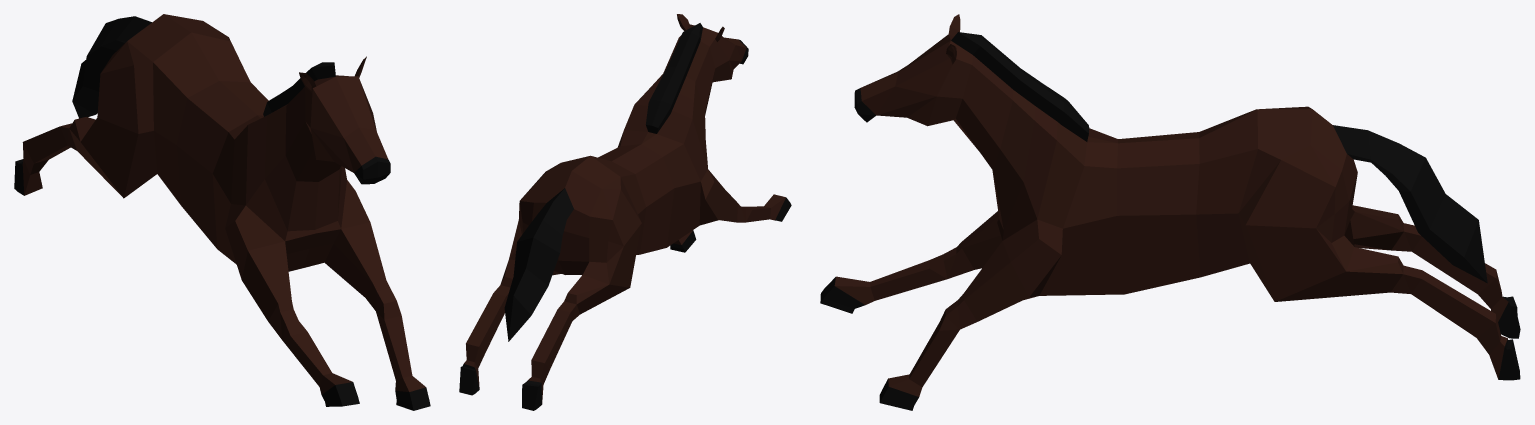
Rendered from Horse_000016.obj.
The picture shows the model from 3 angles, left to right: view 1: azimuth 30°, elevation 25°; view 2: azimuth 150°, elevation 25°; view 3: azimuth 270°, elevation 25°; orthographic projection. The views are drawn at different scales.
Parts seen in each view (by area): view 1: Horse_Cylinder; view 2: Horse_Cylinder; view 3: Horse_Cylinder.
Part boxes in pixels (bbox=[...]): Horse_Cylinder: bbox=[14, 14, 430, 410]; Horse_Cylinder: bbox=[459, 14, 791, 410]; Horse_Cylinder: bbox=[820, 14, 1520, 410].
Size of the model in its own units: 2.56 by 6.01 by 10.9.
